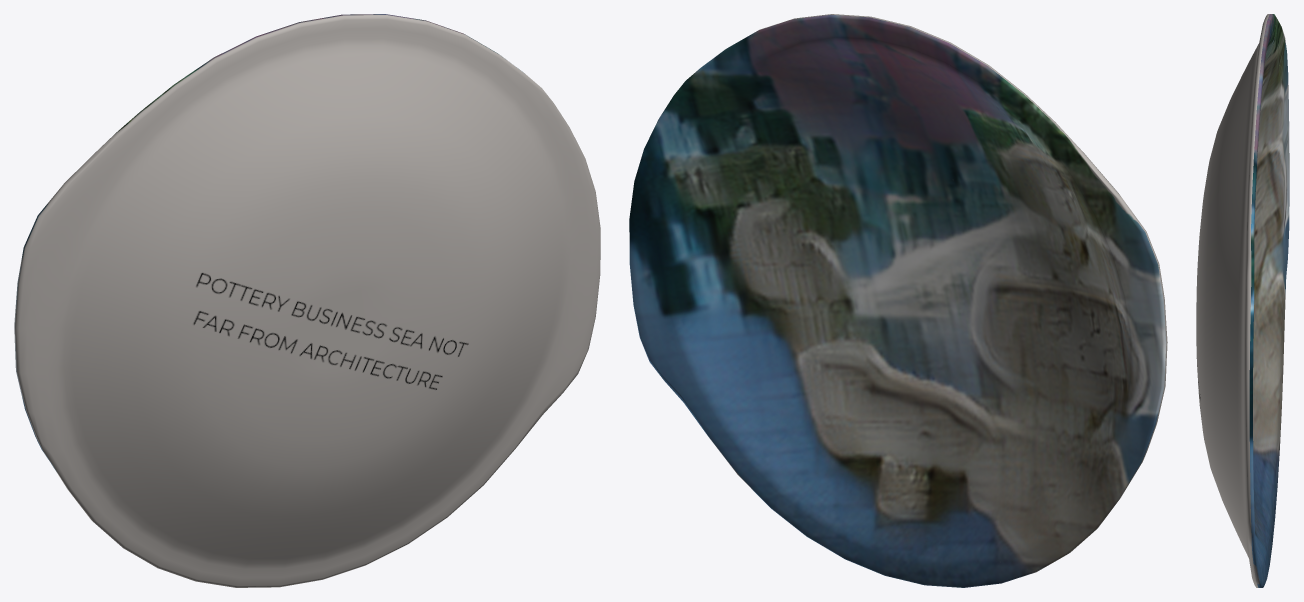
3 views of the same model, side by side, from view 1: azimuth 30°, elevation 25°; view 2: azimuth 150°, elevation 25°; view 3: azimuth 270°, elevation 25° (orthographic). The views are drawn at different scales.
Parts seen in each view (by area): view 1: bluewhitered39:_bluewhitered_39_remodel1 group; view 2: bluewhitered39:_bluewhitered_39_remodel1 group; view 3: bluewhitered39:_bluewhitered_39_remodel1 group.
Part boxes in pixels (bbox=[...]): bluewhitered39:_bluewhitered_39_remodel1 group: bbox=[14, 14, 600, 587]; bluewhitered39:_bluewhitered_39_remodel1 group: bbox=[629, 14, 1167, 587]; bluewhitered39:_bluewhitered_39_remodel1 group: bbox=[1196, 14, 1289, 587].
Size of the model in its own units: 8.8 by 8.37 by 1.36.
1 material, 1 textured.
